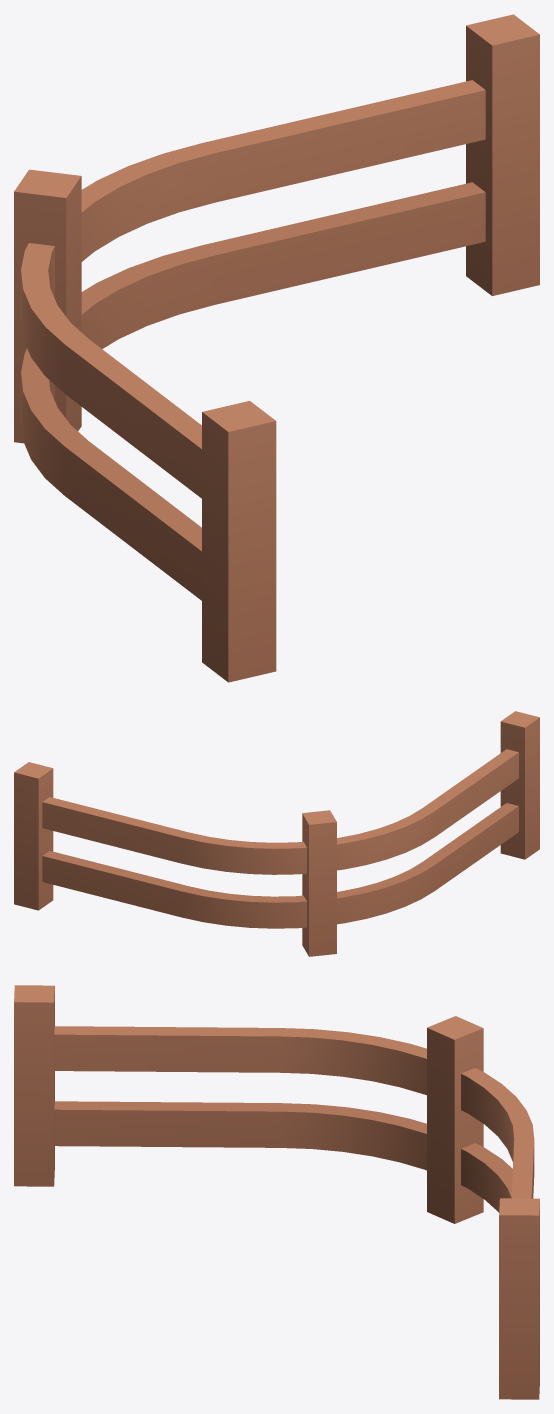
Rendered from fence-curved.002_lev4.glb.
3 views of the same model, one above another, from view 1: azimuth 30°, elevation 25°; view 2: azimuth 150°, elevation 25°; view 3: azimuth 270°, elevation 25° (orthographic). The views are drawn at different scales.
Parts seen in each view (by area): view 1: fence-curved.002_lev4; view 2: fence-curved.002_lev4; view 3: fence-curved.002_lev4.
Part boxes in pixels (x1,y1,x2,y2): fence-curved.002_lev4: (14, 14, 539, 682); fence-curved.002_lev4: (14, 711, 539, 956); fence-curved.002_lev4: (14, 985, 539, 1399).
Size of the model in its own units: 18 by 6.71 by 17.38.
Materials: 1 (1 with a texture image).
